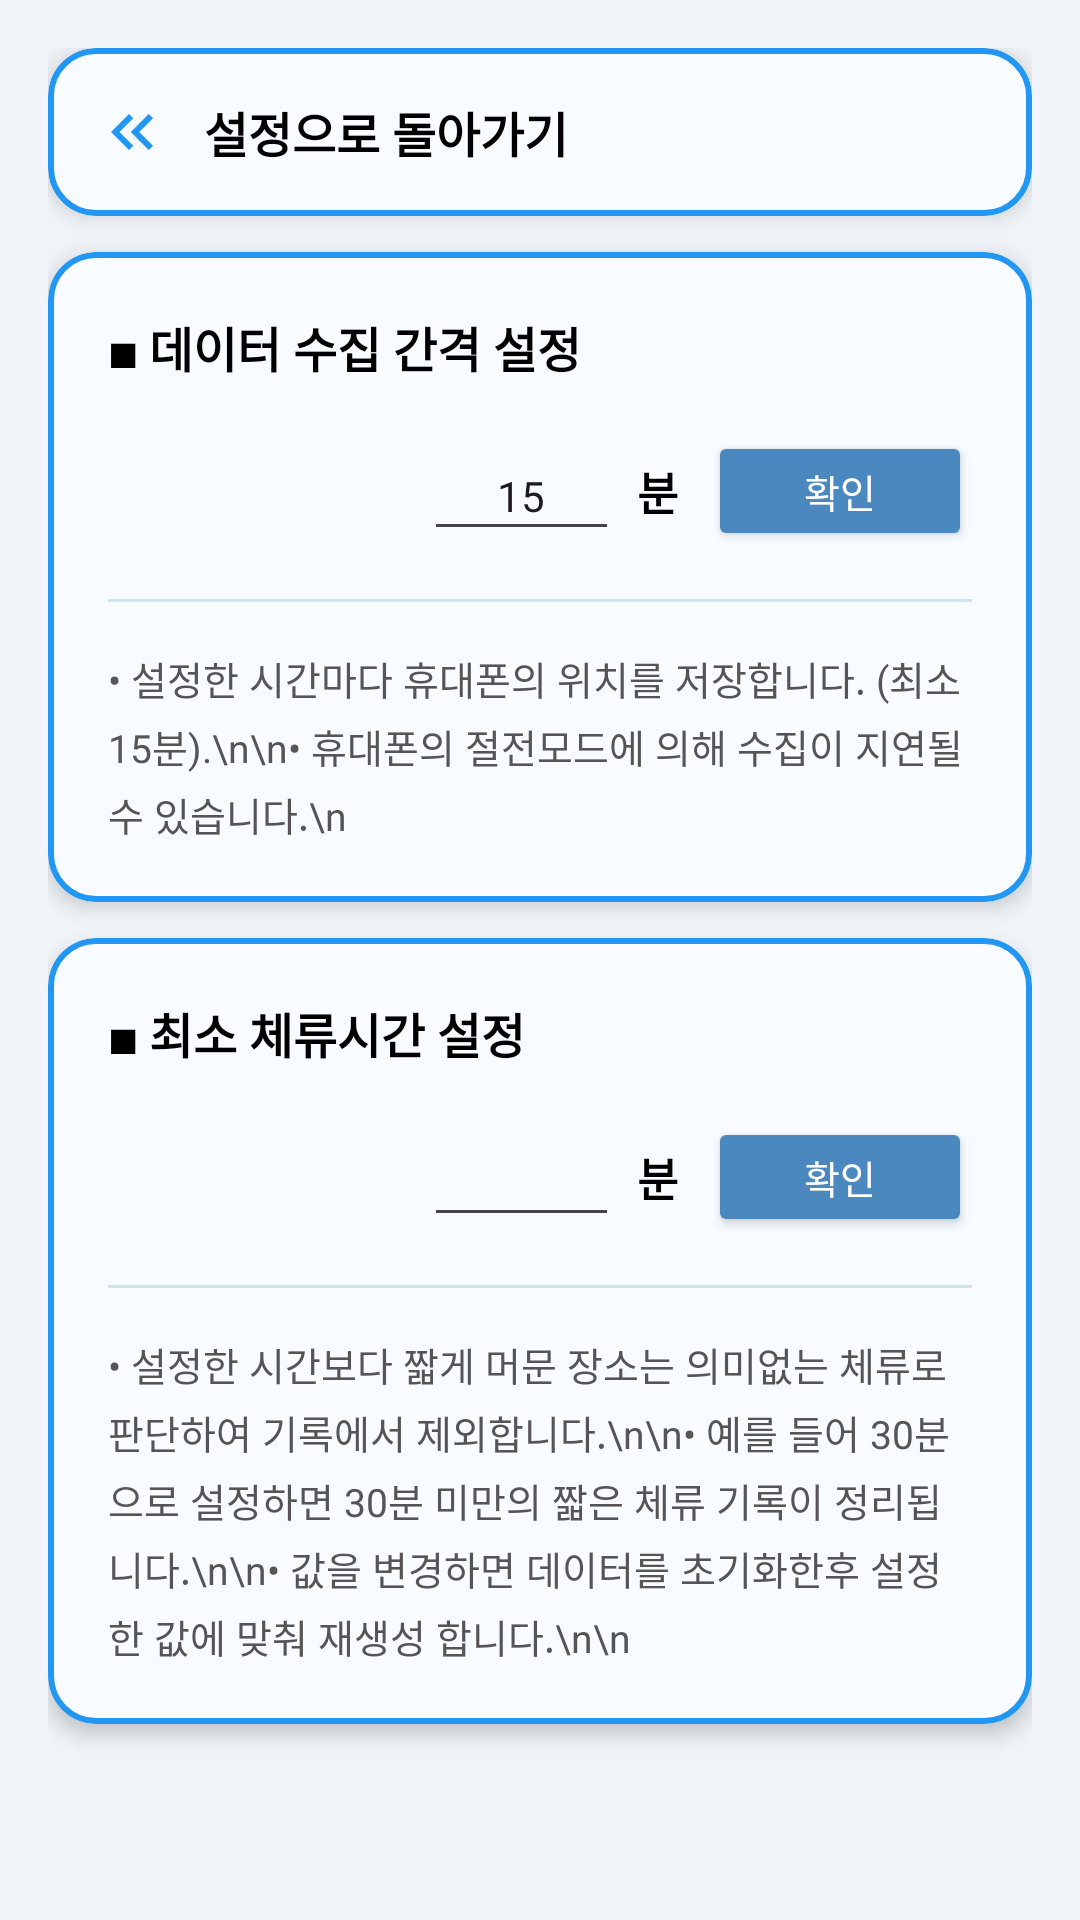

Locate icon controls on the screen. Image size 1080px x 1920px, boxes as (x1,y1,x2,y2).
돌아가기 아이콘: (111,114,153,150)
